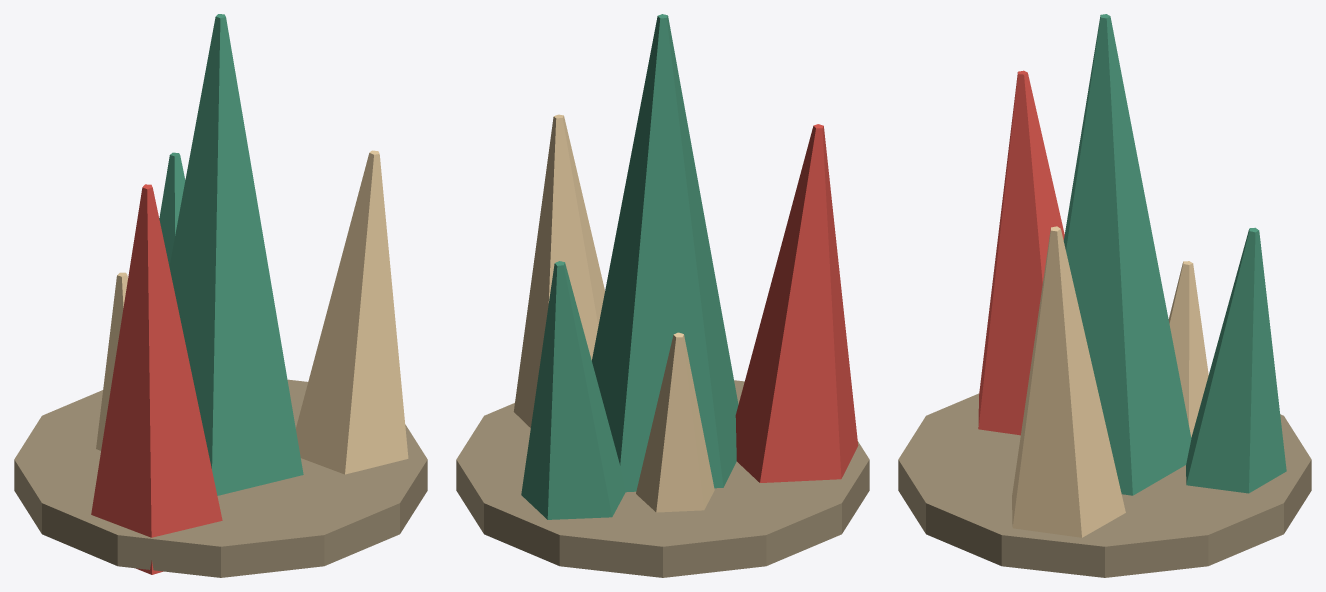
File: ParkParkDecorCrystal.obj
3 renders of one model, left to right at view 1: azimuth 30°, elevation 25°; view 2: azimuth 150°, elevation 25°; view 3: azimuth 270°, elevation 25°, orthographic.
Visible parts, largest first — view 1: ParkParkDecorCrystal; view 2: ParkParkDecorCrystal; view 3: ParkParkDecorCrystal.
Boxes of the visible parts, x1,y1,x2,y2 form: ParkParkDecorCrystal: [14, 14, 427, 577]; ParkParkDecorCrystal: [456, 14, 869, 577]; ParkParkDecorCrystal: [898, 14, 1311, 577].
Size of the model in its own units: 3 by 3.84 by 3.
